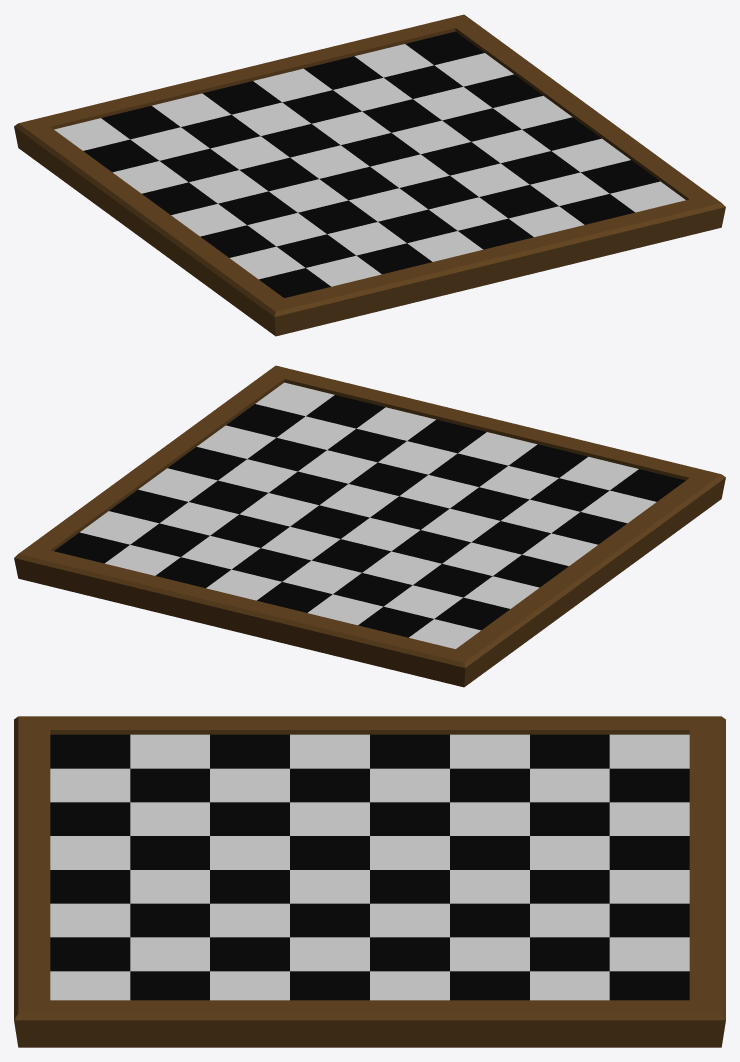
The model's file is Chess Board.fbx.
3 views of the same model, one above another, from view 1: azimuth 30°, elevation 25°; view 2: azimuth 150°, elevation 25°; view 3: azimuth 270°, elevation 25° (orthographic). The views are drawn at different scales.
Visible parts, largest first — view 1: Chessboard; view 2: Chessboard; view 3: Chessboard.
Boxes of the visible parts, x1=… form: Chessboard: x1=14, y1=14, x2=725, y2=336; Chessboard: x1=14, y1=365, x2=725, y2=687; Chessboard: x1=14, y1=716, x2=725, y2=1047.
Bounding box in the file's own units: 334 × 334 × 17.49.
